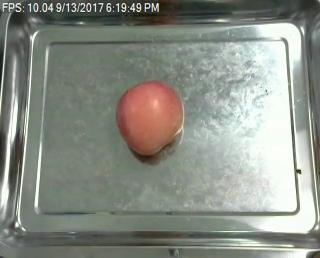apple: (115, 80, 185, 156)
